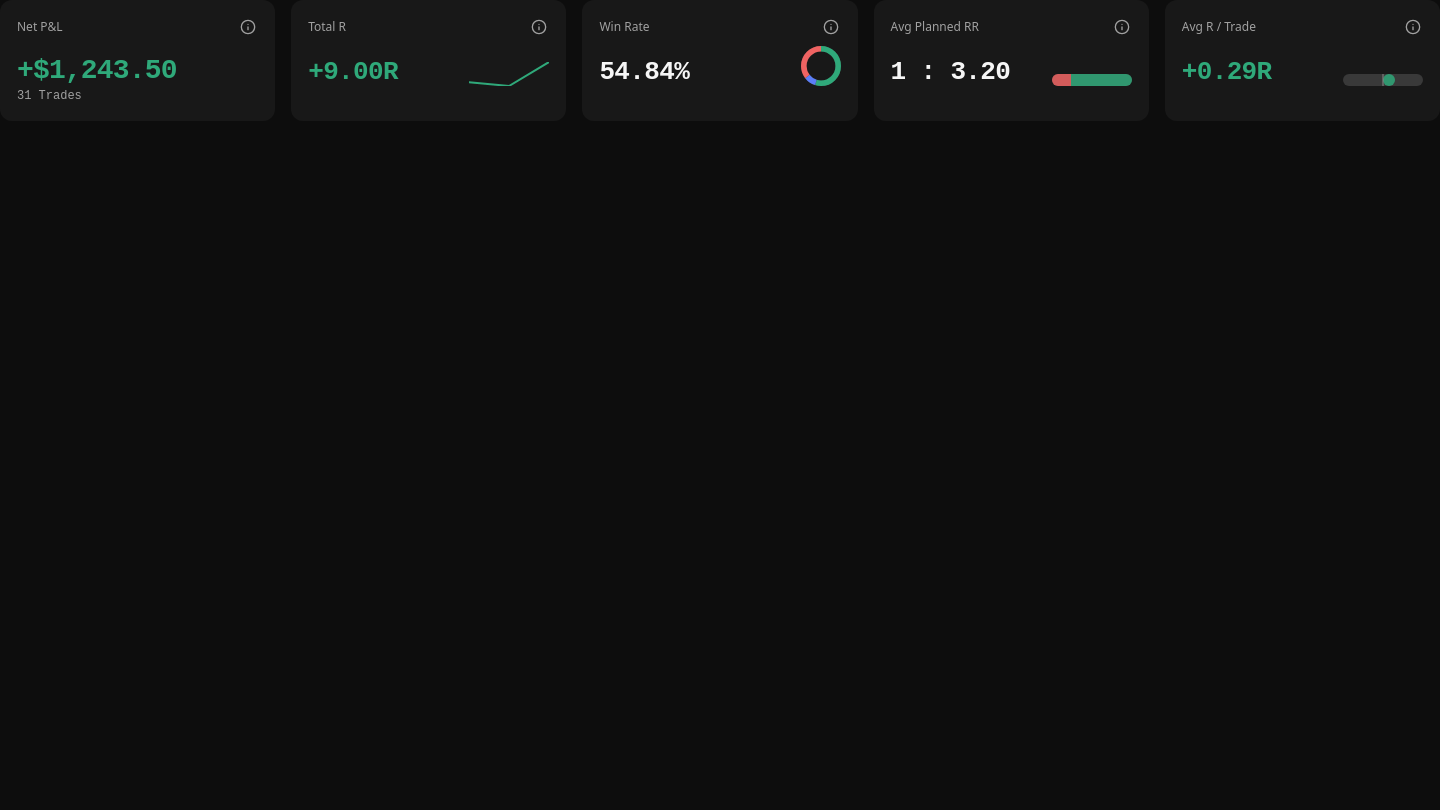
it: BasicKpiRow › says outright that Avg Planned RR comes from the plan, not the result
The image size is (1440, 810).
Step 1. Click the button named "About Avg Planned RR" → (1122, 27), box [1108, 13, 1136, 41]
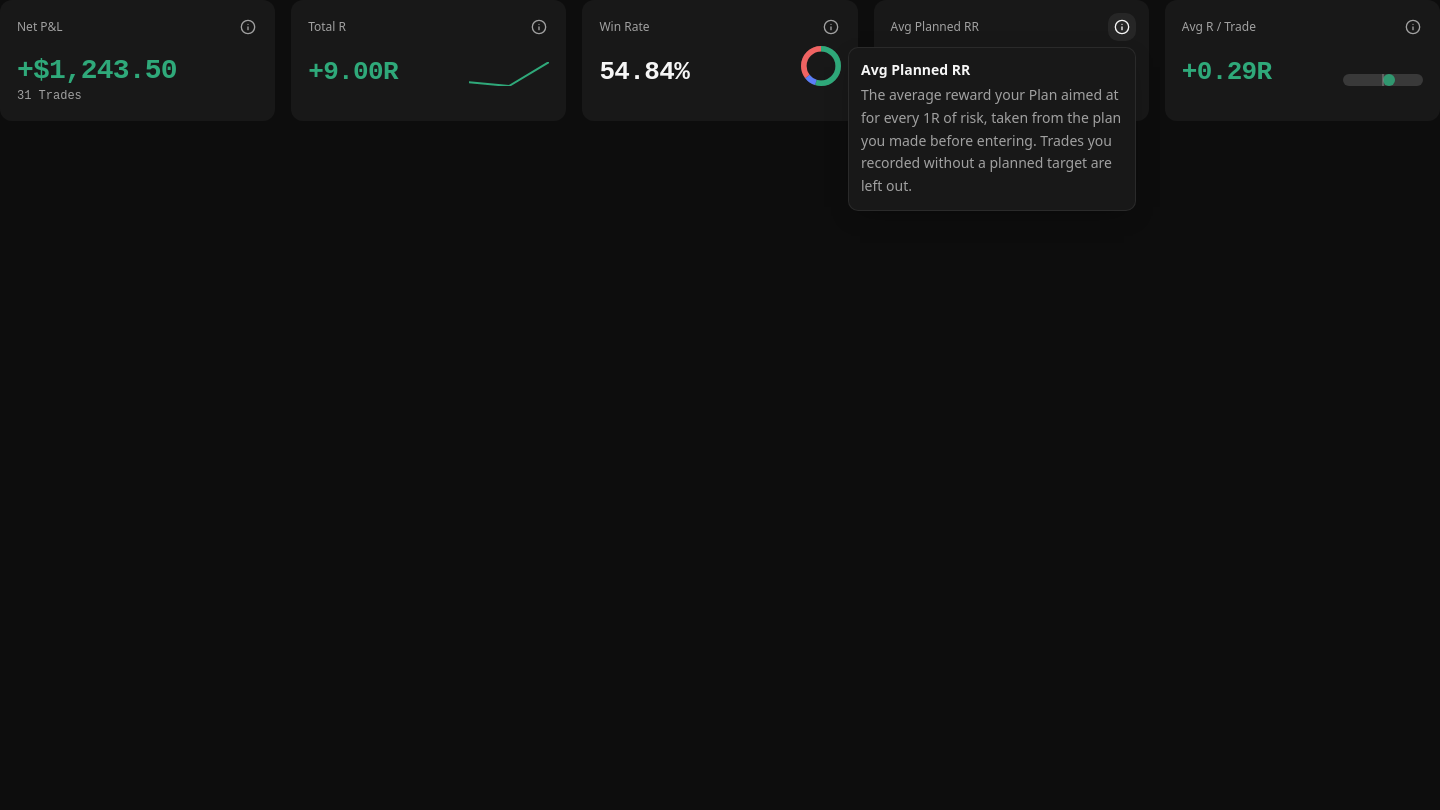
Now the text "without a planned target are left out" is shown, box [861, 85, 1121, 195]
